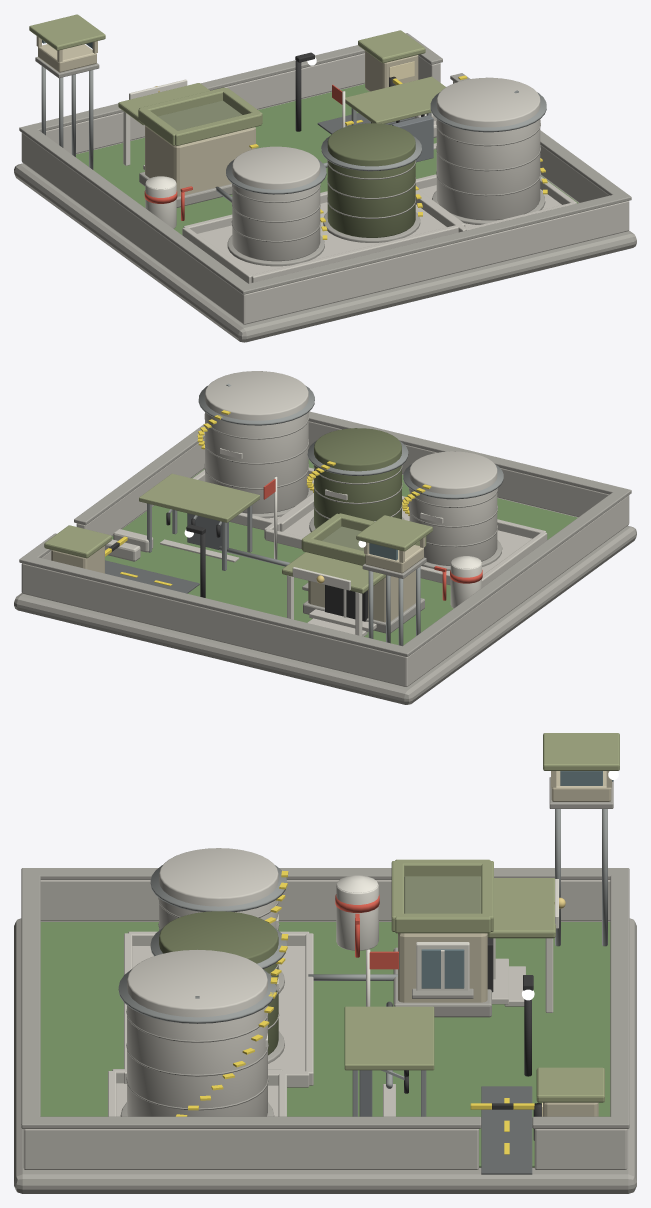
File: fueldepot_8.glb
3 views of the same model, one above another, from view 1: azimuth 30°, elevation 25°; view 2: azimuth 150°, elevation 25°; view 3: azimuth 270°, elevation 25° (orthographic). The views are drawn at different scales.
Visible parts, largest first — view 1: Cylinder.016, Cube, Cube.104, Cylinder.002, Cylinder.009, Cube.001, Cube.106, Cube.102, Cube.072, Cube.105, Cube.107, Cube.095 (+29 smaller); view 2: Cube.001, Cube, Cube.102, Cylinder.016, Cylinder.002, Cylinder.009, Cube.106, Cube.103, Cube.104, Cube.095, Cube.107, Cube.105 (+27 smaller); view 3: Cube.001, Cylinder.016, Cube, Cube.110, Cube.106, Cylinder.002, Cube.095, Cube.111, Cylinder.009, Cube.103, Cube.105, Cube.002 (+28 smaller).
Part boxes in pixels (x1=…): Cylinder.016: x1=436, y1=77, x2=540, y2=220; Cube: x1=14, y1=83, x2=636, y2=342; Cube.104: x1=239, y1=201, x2=629, y2=324; Cylinder.002: x1=232, y1=146, x2=320, y2=261; Cylinder.009: x1=327, y1=123, x2=415, y2=237; Cube.001: x1=76, y1=84, x2=578, y2=234; Cube.106: x1=24, y1=135, x2=240, y2=321; Cube.102: x1=21, y1=53, x2=364, y2=164; Cube.072: x1=145, y1=125, x2=255, y2=196; Cube.105: x1=238, y1=192, x2=631, y2=294; Cube.107: x1=22, y1=127, x2=247, y2=291; Cube.095: x1=345, y1=76, x2=445, y2=123; Cube.001: x1=105, y1=459, x2=577, y2=645; Cube: x1=14, y1=468, x2=636, y2=704; Cube.102: x1=21, y1=563, x2=411, y2=687; Cylinder.016: x1=205, y1=371, x2=308, y2=513; Cylinder.002: x1=409, y1=451, x2=497, y2=565; Cylinder.009: x1=314, y1=428, x2=401, y2=528; Cube.106: x1=410, y1=497, x2=626, y2=684; Cube.103: x1=19, y1=554, x2=414, y2=656; Cube.104: x1=308, y1=421, x2=629, y2=526; Cube.095: x1=139, y1=473, x2=259, y2=522; Cube.107: x1=399, y1=489, x2=628, y2=652; Cube.105: x1=308, y1=411, x2=631, y2=494; Cube.001: x1=40, y1=922, x2=610, y2=1167; Cylinder.016: x1=127, y1=949, x2=267, y2=1116; Cube: x1=14, y1=918, x2=636, y2=1193; Cube.110: x1=33, y1=1129, x2=478, y2=1169; Cube.106: x1=40, y1=880, x2=610, y2=921; Cylinder.002: x1=159, y1=848, x2=278, y2=930; Cube.095: x1=344, y1=1006, x2=434, y2=1070; Cube.111: x1=30, y1=1116, x2=481, y2=1128; Cylinder.009: x1=159, y1=911, x2=278, y2=1055; Cube.103: x1=610, y1=868, x2=629, y2=1128; Cube.105: x1=21, y1=868, x2=40, y2=1128; Cube.002: x1=481, y1=1086, x2=532, y2=1174.
Bounding box in the file's own units: 2.92 × 1.08 × 2.92.
